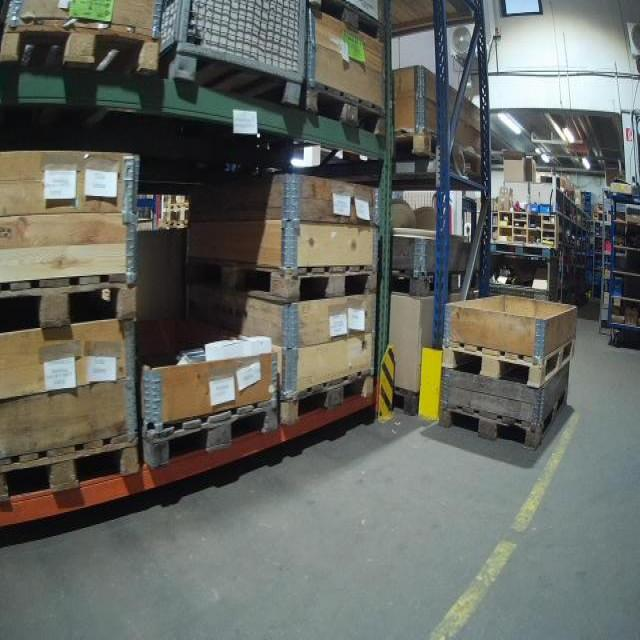pallet: (1, 428, 141, 514), (1, 260, 144, 344), (2, 20, 168, 89), (142, 395, 281, 471), (178, 258, 378, 303), (441, 386, 570, 452), (440, 331, 576, 386), (280, 360, 378, 430), (306, 76, 394, 139), (390, 132, 491, 170)
stillage: (153, 2, 313, 113)
